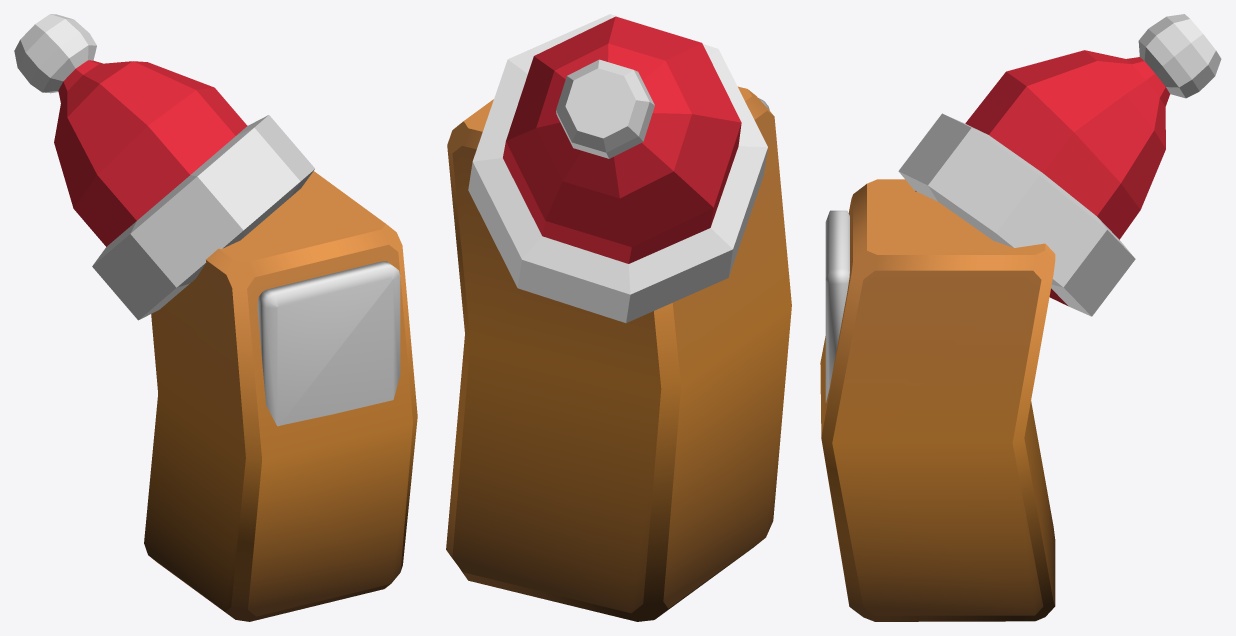
Rendered from FingerV2.fbx.
3 views of the same model, side by side, from view 1: azimuth 30°, elevation 25°; view 2: azimuth 150°, elevation 25°; view 3: azimuth 270°, elevation 25° (orthographic). The views are drawn at different scales.
Parts seen in each view (by area): view 1: Cube.012, Cube.014, Cube.013; view 2: Cube.012, Cube.014; view 3: Cube.012, Cube.014, Cube.013.
Boxes of the visible parts, left/top/right/bottom form: Cube.012: left=144, top=171, right=417, bottom=621; Cube.014: left=14, top=14, right=314, bottom=320; Cube.013: left=257, top=261, right=400, bottom=426; Cube.012: left=446, top=86, right=791, bottom=621; Cube.014: left=468, top=14, right=767, bottom=322; Cube.012: left=820, top=179, right=1055, bottom=621; Cube.014: left=898, top=14, right=1221, bottom=316; Cube.013: left=825, top=210, right=849, bottom=402.
Size of the model in its own units: 55.21 by 36.87 by 77.69.
